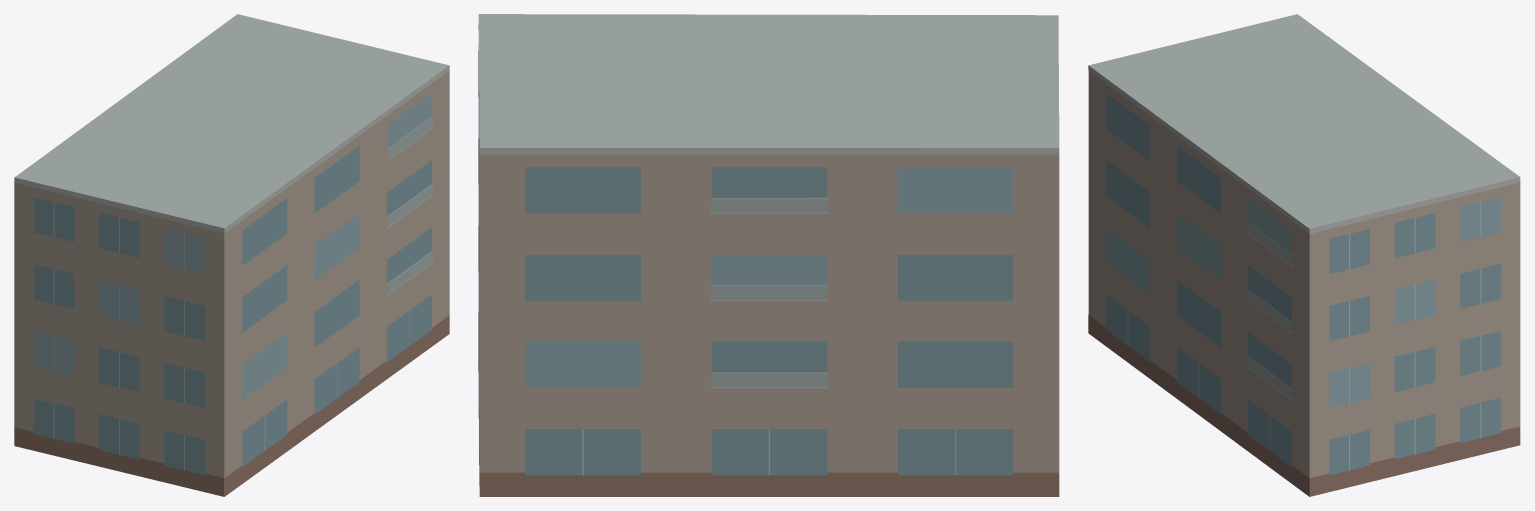
The model's file is survey-upis-32972556.glb.
3 views of the same model, side by side, from view 1: azimuth 30°, elevation 25°; view 2: azimuth 150°, elevation 25°; view 3: azimuth 270°, elevation 25° (orthographic). The views are drawn at different scales.
Parts seen in each view (by area): view 1: survey-upis-32972556.tmp; view 2: survey-upis-32972556.tmp; view 3: survey-upis-32972556.tmp.
Boxes of the visible parts, x1,y1,x2,y2 form: survey-upis-32972556.tmp: (14,14,449,496); survey-upis-32972556.tmp: (478,14,1059,496); survey-upis-32972556.tmp: (1088,14,1520,496).
Bounding box in the file's own units: 22.01 × 12.8 × 18.7.
